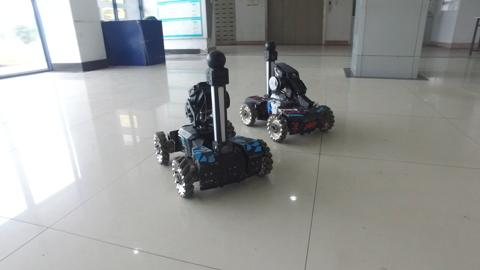chariot: (154, 47, 278, 198), (237, 47, 340, 149)
